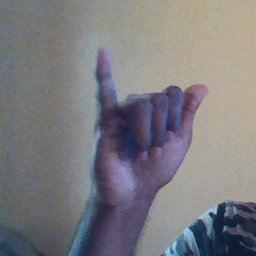J: (86, 42, 211, 194)
